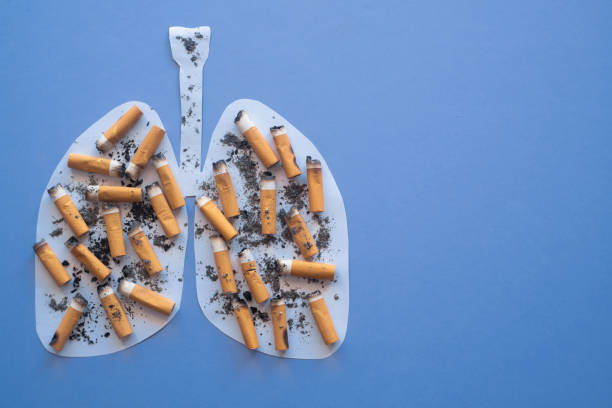cigarette: (232, 109, 280, 171), (122, 123, 167, 185), (94, 103, 144, 155), (48, 291, 89, 353), (47, 182, 91, 237), (63, 235, 112, 283), (116, 278, 176, 316), (145, 180, 182, 240), (150, 152, 186, 213), (96, 282, 132, 340), (196, 193, 238, 242), (237, 247, 272, 305), (305, 287, 339, 346), (282, 206, 319, 260), (127, 224, 163, 278), (33, 238, 71, 288), (268, 124, 301, 181), (211, 158, 241, 220), (209, 233, 237, 295), (231, 298, 260, 351), (66, 152, 125, 177), (101, 205, 127, 259), (275, 258, 335, 281), (258, 169, 277, 236), (305, 153, 325, 213), (269, 295, 290, 352), (84, 184, 143, 203)
